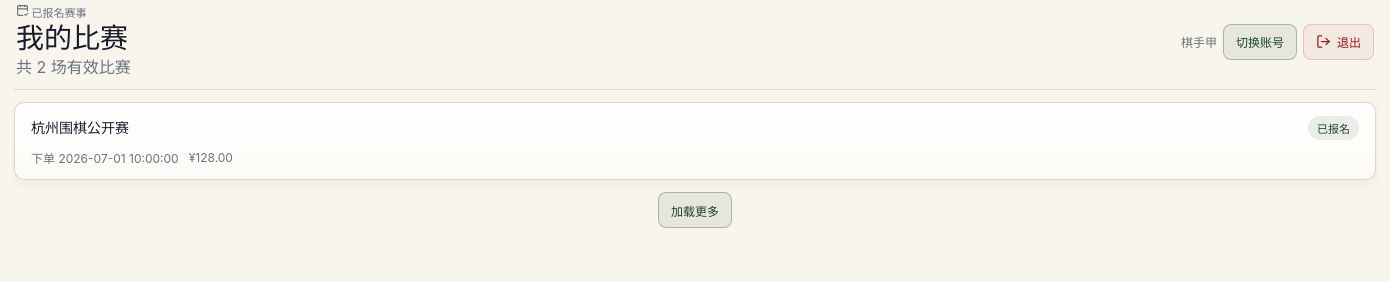
Test: YunbisaiMyEventsPanel › loads active events continuously without filters
The image size is (1390, 282).
Expected: the button "杭州围棋公开赛 已报名 下单 2026-07-01 10:00:00 ¥128.00" is shown, [14, 102, 1376, 180]
Click the button "加载更多".
click(695, 210)  # box [658, 192, 732, 228]
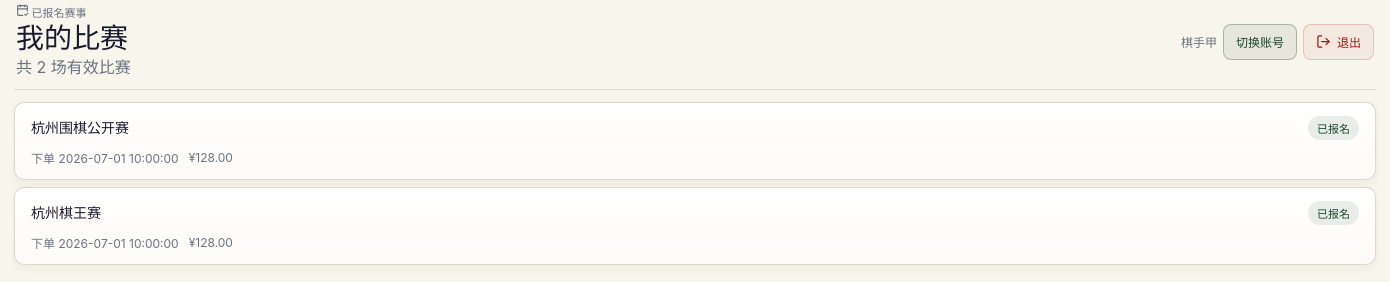
Result: the button "杭州棋王赛 已报名 下单 2026-07-01 10:00:00 ¥128.00" is shown at [14, 187, 1376, 265]
Result: the number of buttons "杭州围棋公开赛 已报名 下单 2026-07-01 10:00:00 ¥128.00" is 1 at [14, 102, 1376, 180]
